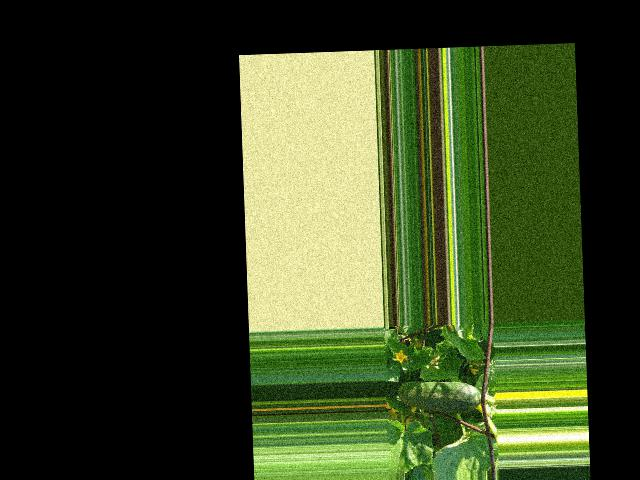cucumber: (397, 379, 481, 417)
